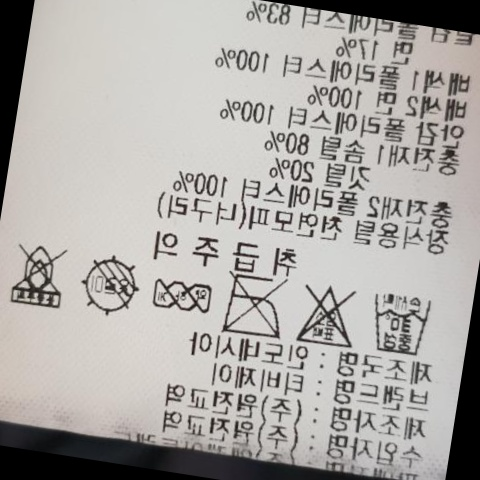DN_iron: (218, 271, 291, 344)
hand_wash: (361, 286, 433, 361)
line_dry_in_shade: (74, 251, 141, 319)
non_chlorine_bleach: (289, 272, 362, 352)
wring: (144, 270, 214, 318)
